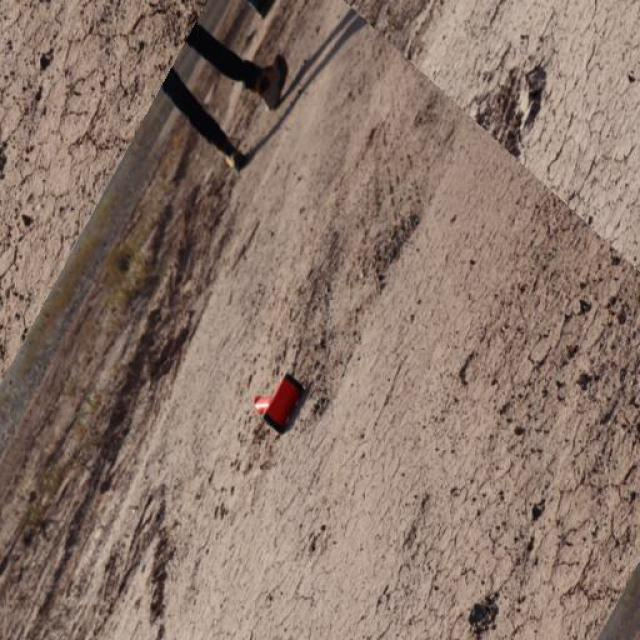mallet: (251, 372, 304, 432)
